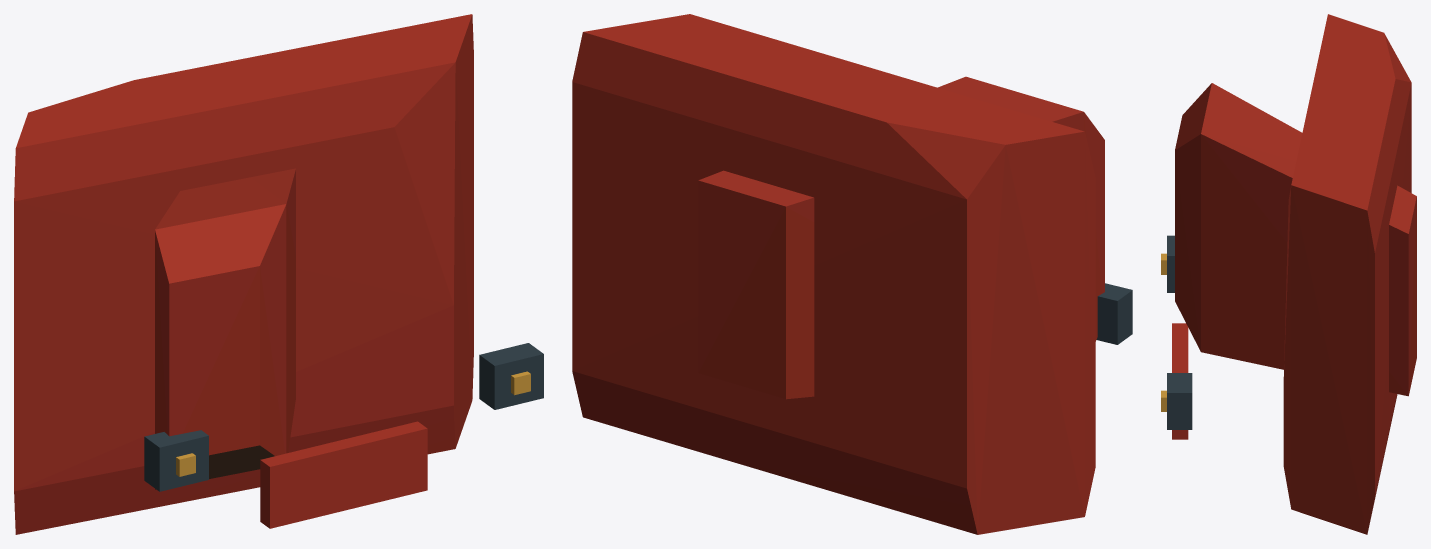
The model's file is tool-bench-coral.glb.
The picture shows the model from 3 angles, left to right: view 1: azimuth 30°, elevation 25°; view 2: azimuth 150°, elevation 25°; view 3: azimuth 270°, elevation 25°; orthographic projection. The views are drawn at different scales.
Visible parts, largest first — view 1: tool-bench-coral; view 2: tool-bench-coral; view 3: tool-bench-coral.
Boxes of the visible parts, x1=… form: tool-bench-coral: x1=14, y1=14, x2=543, y2=534; tool-bench-coral: x1=572, y1=14, x2=1132, y2=534; tool-bench-coral: x1=1161, y1=14, x2=1416, y2=534.
Bounding box in the file's own units: 1.4 × 1.05 × 0.7503.
